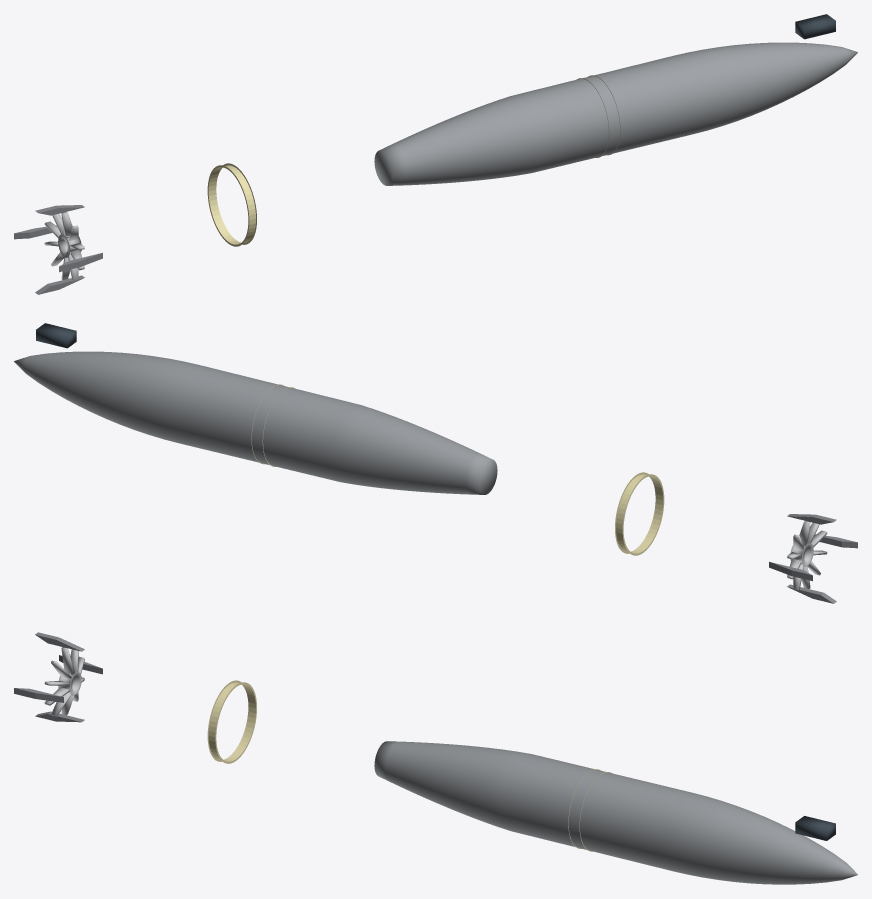
Rendered from US_TORP_Mk16_LOD0.fbx.
3 renders of one model, top to bottom at view 1: azimuth 30°, elevation 25°; view 2: azimuth 150°, elevation 25°; view 3: azimuth 330°, elevation 25°, orthographic.
Visible parts, largest first — view 1: WPN_US_TORP_Mk16_LOD0_Body, WPN_US_TORP_Mk16_LOD0_Marking, WPN_US_TORP_Mk16_LOD0_Propulsor, WPN_US_TORP_Mk16_LOD0_Fins, WPN_US_TORP_Mk16_LOD0_Seeker; view 2: WPN_US_TORP_Mk16_LOD0_Body, WPN_US_TORP_Mk16_LOD0_Marking, WPN_US_TORP_Mk16_LOD0_Propulsor, WPN_US_TORP_Mk16_LOD0_Fins, WPN_US_TORP_Mk16_LOD0_Seeker; view 3: WPN_US_TORP_Mk16_LOD0_Body, WPN_US_TORP_Mk16_LOD0_Marking, WPN_US_TORP_Mk16_LOD0_Propulsor, WPN_US_TORP_Mk16_LOD0_Fins, WPN_US_TORP_Mk16_LOD0_Seeker.
Boxes of the visible parts, bbox=[...] form: WPN_US_TORP_Mk16_LOD0_Body: bbox=[374, 42, 857, 185]; WPN_US_TORP_Mk16_LOD0_Marking: bbox=[207, 75, 620, 246]; WPN_US_TORP_Mk16_LOD0_Propulsor: bbox=[44, 212, 84, 281]; WPN_US_TORP_Mk16_LOD0_Fins: bbox=[14, 205, 102, 294]; WPN_US_TORP_Mk16_LOD0_Seeker: bbox=[795, 14, 835, 39]; WPN_US_TORP_Mk16_LOD0_Body: bbox=[14, 351, 497, 494]; WPN_US_TORP_Mk16_LOD0_Marking: bbox=[251, 384, 664, 555]; WPN_US_TORP_Mk16_LOD0_Propulsor: bbox=[787, 521, 827, 590]; WPN_US_TORP_Mk16_LOD0_Fins: bbox=[769, 514, 857, 603]; WPN_US_TORP_Mk16_LOD0_Seeker: bbox=[36, 323, 76, 348]; WPN_US_TORP_Mk16_LOD0_Body: bbox=[374, 741, 857, 884]; WPN_US_TORP_Mk16_LOD0_Marking: bbox=[207, 680, 611, 851]; WPN_US_TORP_Mk16_LOD0_Propulsor: bbox=[44, 647, 84, 716]; WPN_US_TORP_Mk16_LOD0_Fins: bbox=[14, 632, 102, 722]; WPN_US_TORP_Mk16_LOD0_Seeker: bbox=[795, 816, 835, 840].
Size of the model in its own units: 6.24 by 0.5932 by 0.5977.
